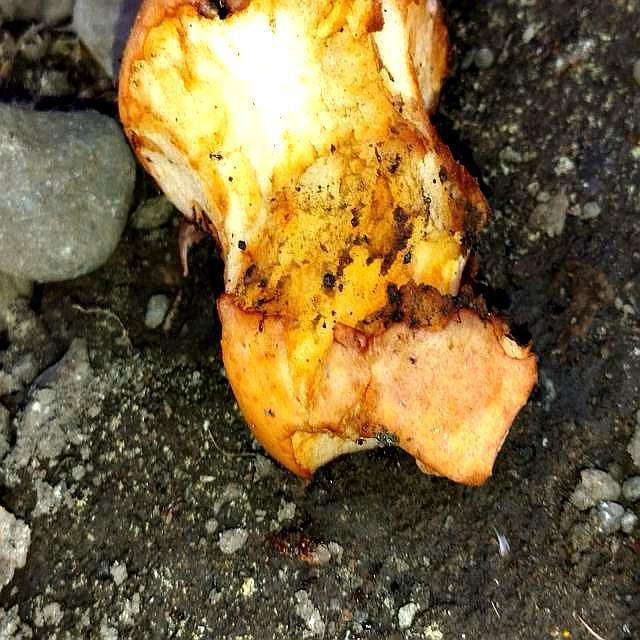Biodegradable: (119, 1, 543, 489)
